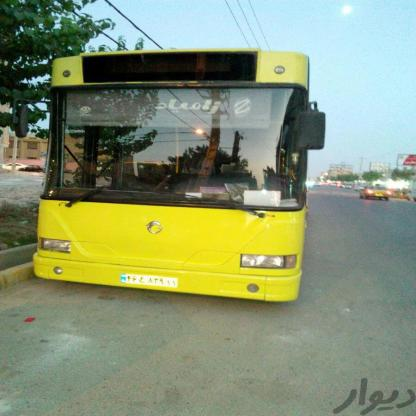Bus: (22, 36, 321, 316)
Car: (353, 173, 391, 209)
